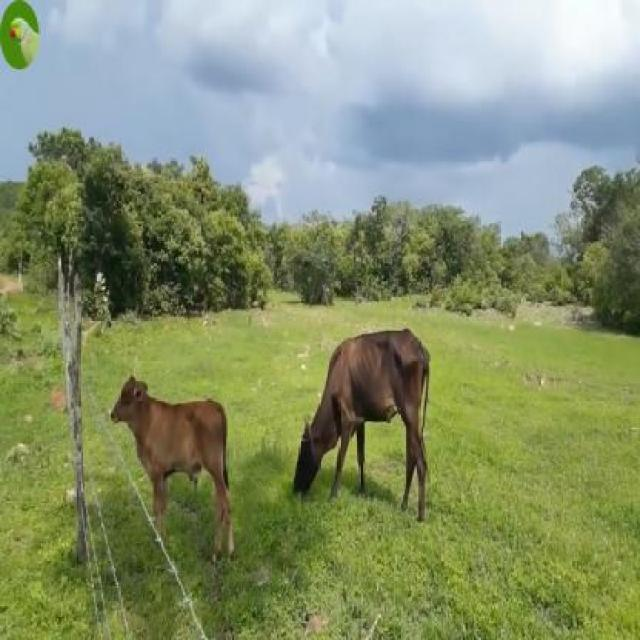Cow: (296, 326, 432, 517), (110, 371, 236, 555)
